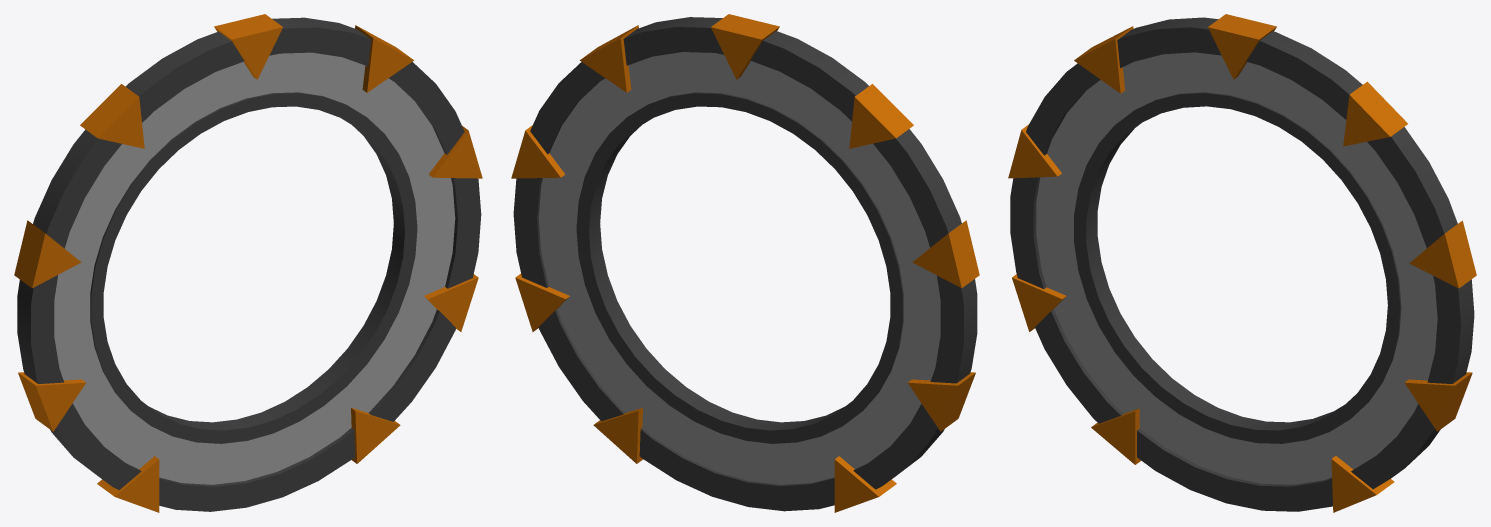
Rendered from Stargate.fbx.
3 views of the same model, side by side, from view 1: azimuth 30°, elevation 25°; view 2: azimuth 150°, elevation 25°; view 3: azimuth 330°, elevation 25° (orthographic).
Parts seen in each view (by area): view 1: RingDial, OuterRing, InnerRing, Cheveron_8, Cheveron_7, Cheveron_9, Cheveron_6, Cheveron_1, Cheveron_5, Cheveron_2, Cheveron_4, Cheveron_3; view 2: RingDial, OuterRing, InnerRing, Cheveron_8, Cheveron_7, Cheveron_9, Cheveron_6, Cheveron_1, Cheveron_5, Cheveron_2, Cheveron_4, Cheveron_3; view 3: RingDial, OuterRing, InnerRing, Cheveron_1, Cheveron_2, Cheveron_9, Cheveron_3, Cheveron_8, Cheveron_4, Cheveron_7, Cheveron_5, Cheveron_6.
Boxes of the visible parts, x1,y1,x2,y2 form: RingDial: (54, 52, 455, 484); OuterRing: (17, 17, 481, 511); InnerRing: (90, 92, 417, 443); Cheveron_8: (80, 84, 144, 148); Cheveron_7: (14, 220, 81, 288); Cheveron_9: (214, 14, 282, 79); Cheveron_6: (18, 372, 85, 431); Cheveron_1: (355, 25, 413, 92); Cheveron_5: (97, 456, 159, 512); Cheveron_2: (428, 126, 482, 178); Cheveron_4: (351, 407, 400, 463); Cheveron_3: (424, 274, 478, 331); RingDial: (538, 52, 940, 484); OuterRing: (513, 17, 977, 511); InnerRing: (576, 92, 903, 443); Cheveron_8: (849, 84, 913, 148); Cheveron_7: (912, 220, 979, 288); Cheveron_9: (711, 14, 779, 79); Cheveron_6: (908, 372, 975, 431); Cheveron_1: (580, 25, 638, 92); Cheveron_5: (834, 456, 896, 512); Cheveron_2: (511, 125, 565, 178); Cheveron_4: (593, 407, 643, 463); Cheveron_3: (515, 273, 569, 331); RingDial: (1036, 52, 1437, 484); OuterRing: (1010, 17, 1474, 511); InnerRing: (1074, 92, 1401, 443); Cheveron_1: (1343, 81, 1407, 146); Cheveron_2: (1409, 220, 1476, 288); Cheveron_9: (1208, 14, 1276, 79); Cheveron_3: (1404, 372, 1472, 431); Cheveron_8: (1074, 26, 1133, 93); Cheveron_4: (1331, 456, 1394, 512); Cheveron_7: (1008, 124, 1061, 178); Cheveron_5: (1091, 408, 1141, 464); Cheveron_6: (1012, 274, 1066, 331).
Bounding box in the file's own units: 28.99 × 29.08 × 2.
